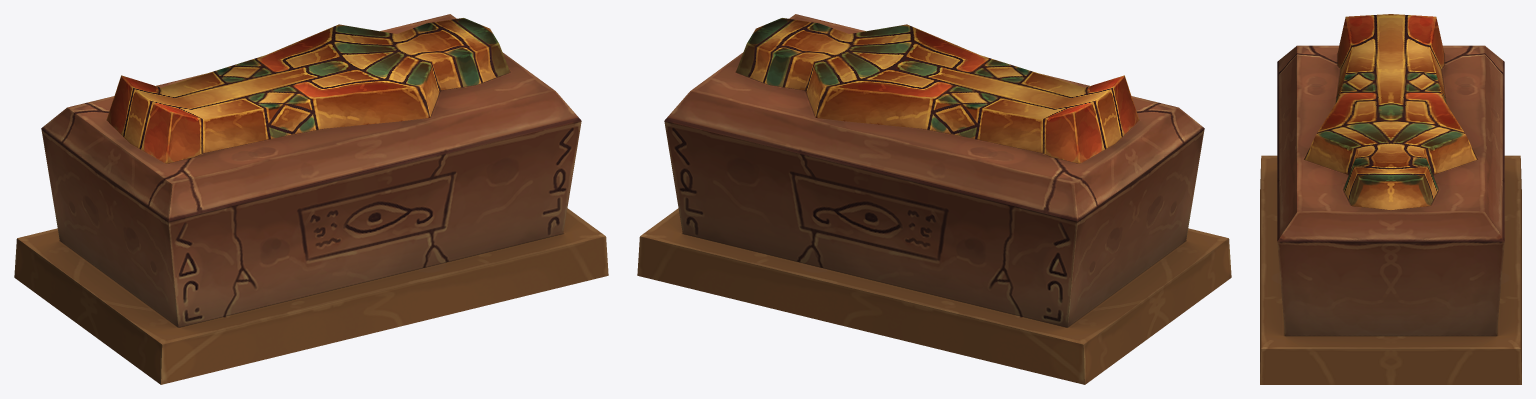
Rendered from td_e_sarcophagus.fbx.
The picture shows the model from 3 angles, left to right: view 1: azimuth 30°, elevation 25°; view 2: azimuth 150°, elevation 25°; view 3: azimuth 270°, elevation 25°; orthographic projection. The views are drawn at different scales.
Visible parts, largest first — view 1: td_e_sarcophagus; view 2: td_e_sarcophagus; view 3: td_e_sarcophagus.
Boxes of the visible parts, x1,y1,x2,y2 form: td_e_sarcophagus: (14,14,608,384); td_e_sarcophagus: (637,14,1231,384); td_e_sarcophagus: (1260,14,1521,384).
Size of what is drawn, in the model's own units: 2.41 by 1.15 by 1.37.
